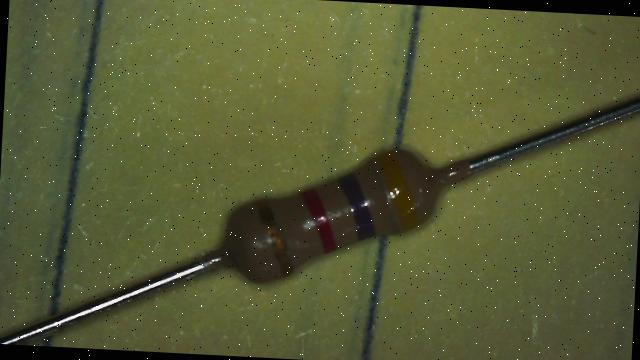gold: (252, 200, 294, 274)
red: (298, 187, 339, 253)
resistor: (186, 115, 458, 308)
violet: (335, 172, 378, 240)
yellow: (373, 151, 422, 230)
